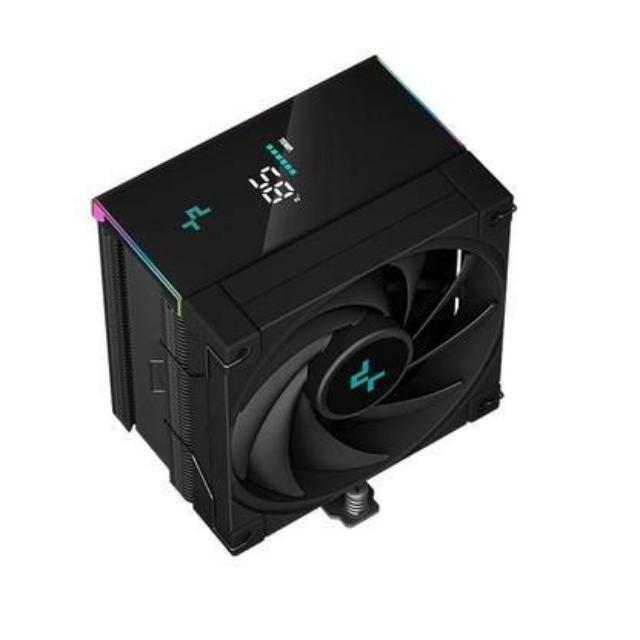CPU_Fan: (87, 52, 516, 558)
